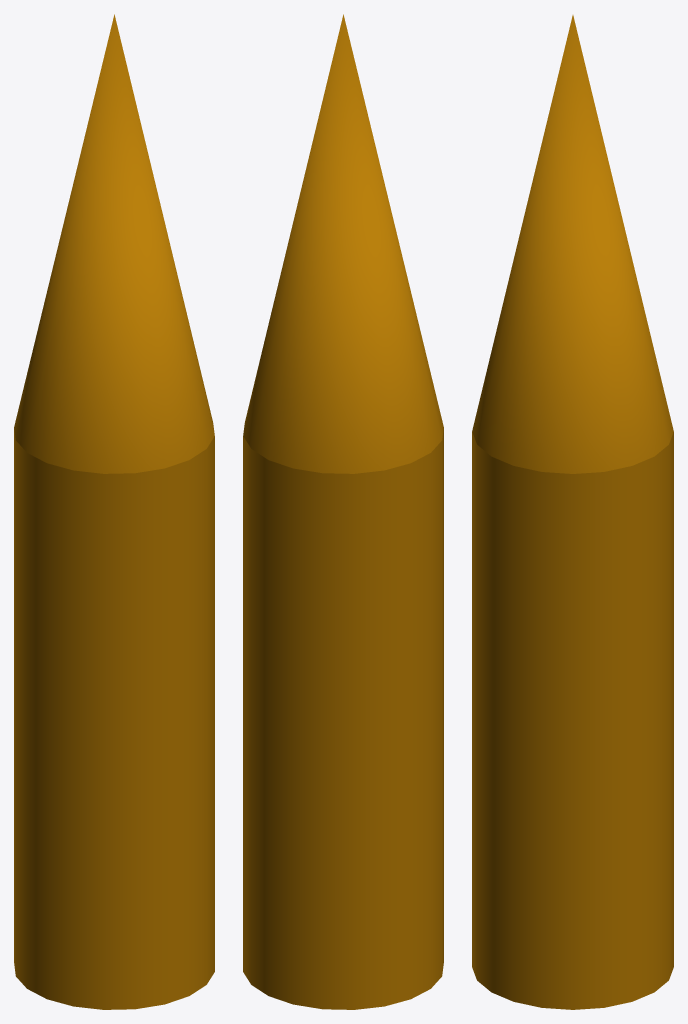
Rendered from carrot.fbx.
3 renders of one model, left to right at view 1: azimuth 30°, elevation 25°; view 2: azimuth 150°, elevation 25°; view 3: azimuth 270°, elevation 25°, orthographic.
Parts seen in each view (by area): view 1: pCylinder1; view 2: pCylinder1; view 3: pCylinder1.
Boxes of the visible parts, x1,y1,x2,y2 form: pCylinder1: [14, 14, 214, 1009]; pCylinder1: [243, 14, 443, 1009]; pCylinder1: [472, 15, 673, 1009].
Bounding box in the file's own units: 2 × 10.43 × 2.
